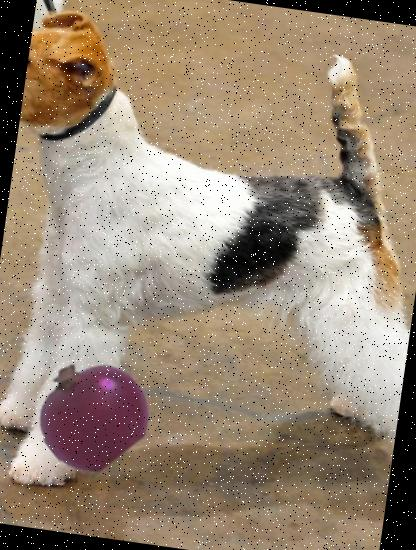Redcurrant: (29, 351, 152, 475)
